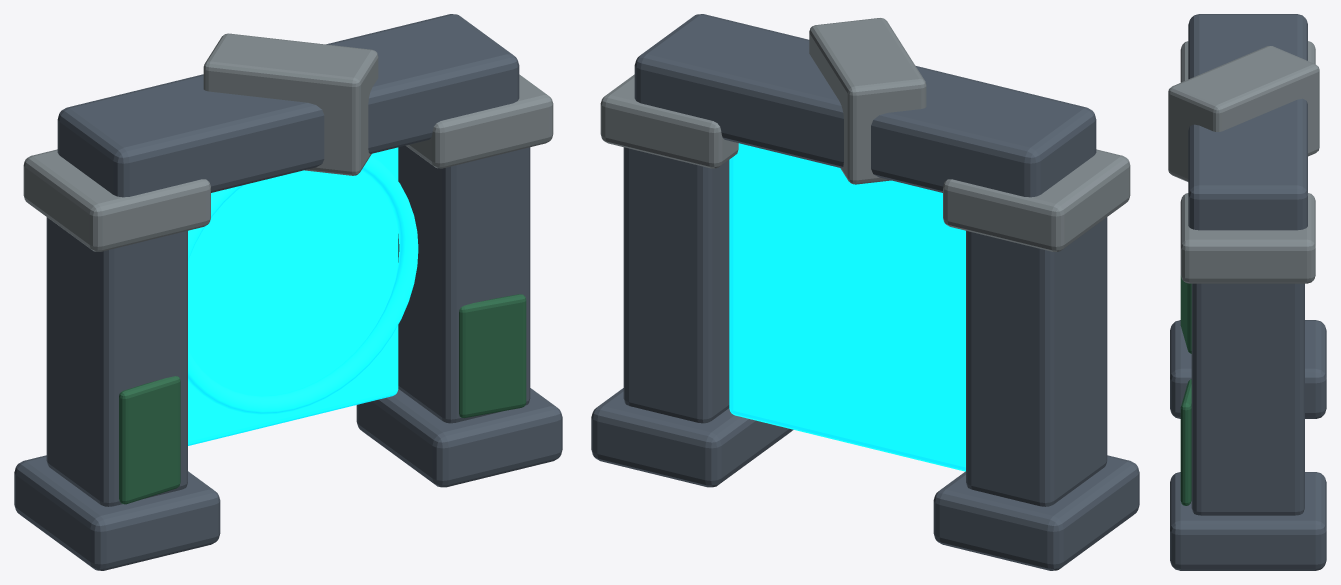
Rendered from modular-portal-arch.glb.
3 views of the same model, side by side, from view 1: azimuth 30°, elevation 25°; view 2: azimuth 150°, elevation 25°; view 3: azimuth 270°, elevation 25° (orthographic). The views are drawn at different scales.
Visible parts, largest first — view 1: Portal_Field, Portal_Lintel, Portal_LeftPillar, Portal_RightPillar, Portal_LeftBase, Portal_Keystone, Portal_RightBase, Portal_LeftCapital, Portal_RuneRing, Portal_MossPatch_02, Portal_MossPatch_01, Portal_RightCapital; view 2: Portal_Field, Portal_Lintel, Portal_LeftPillar, Portal_RightPillar, Portal_LeftBase, Portal_RightBase, Portal_LeftCapital, Portal_Keystone, Portal_RightCapital; view 3: Portal_RightPillar, Portal_Lintel, Portal_RightBase, Portal_Keystone, Portal_RightCapital, Portal_LeftBase, Portal_MossPatch_02, Portal_MossPatch_01, Portal_LeftCapital.
Boxes of the visible parts, bbox=[...] form: Portal_Field: bbox=[188, 147, 398, 445]; Portal_Lintel: bbox=[57, 14, 519, 197]; Portal_LeftPillar: bbox=[46, 217, 187, 506]; Portal_RightPillar: bbox=[398, 145, 530, 423]; Portal_LeftBase: bbox=[14, 455, 220, 570]; Portal_Keystone: bbox=[203, 33, 378, 175]; Portal_RightBase: bbox=[356, 388, 562, 487]; Portal_LeftCapital: bbox=[23, 149, 210, 251]; Portal_RuneRing: bbox=[188, 155, 418, 414]; Portal_MossPatch_02: bbox=[459, 294, 526, 418]; Portal_MossPatch_01: bbox=[119, 376, 180, 504]; Portal_RightCapital: bbox=[406, 74, 553, 168]; Portal_Field: bbox=[729, 143, 965, 471]; Portal_Lintel: bbox=[634, 14, 1096, 197]; Portal_LeftPillar: bbox=[966, 217, 1107, 506]; Portal_RightPillar: bbox=[623, 147, 729, 423]; Portal_LeftBase: bbox=[933, 455, 1139, 570]; Portal_RightBase: bbox=[591, 388, 793, 487]; Portal_LeftCapital: bbox=[943, 149, 1130, 251]; Portal_Keystone: bbox=[809, 18, 926, 184]; Portal_RightCapital: bbox=[600, 74, 738, 168]; Portal_RightPillar: bbox=[1191, 283, 1304, 515]; Portal_Lintel: bbox=[1188, 14, 1307, 230]; Portal_RightBase: bbox=[1170, 472, 1326, 570]; Portal_Keystone: bbox=[1168, 46, 1319, 181]; Portal_RightCapital: bbox=[1180, 193, 1315, 283]; Portal_LeftBase: bbox=[1170, 320, 1326, 418]; Portal_MossPatch_02: bbox=[1180, 379, 1191, 505]; Portal_MossPatch_01: bbox=[1180, 275, 1191, 353]; Portal_LeftCapital: bbox=[1180, 41, 1315, 82].
Bounding box in the file's own units: 4.54 × 4 × 1.45.
